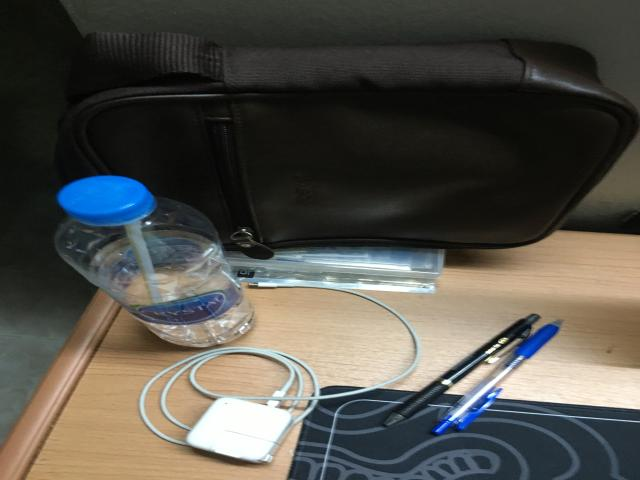Pen: (385, 314, 540, 426), (432, 320, 562, 435)
bottle: (55, 175, 253, 347)
wire: (138, 281, 420, 463)
